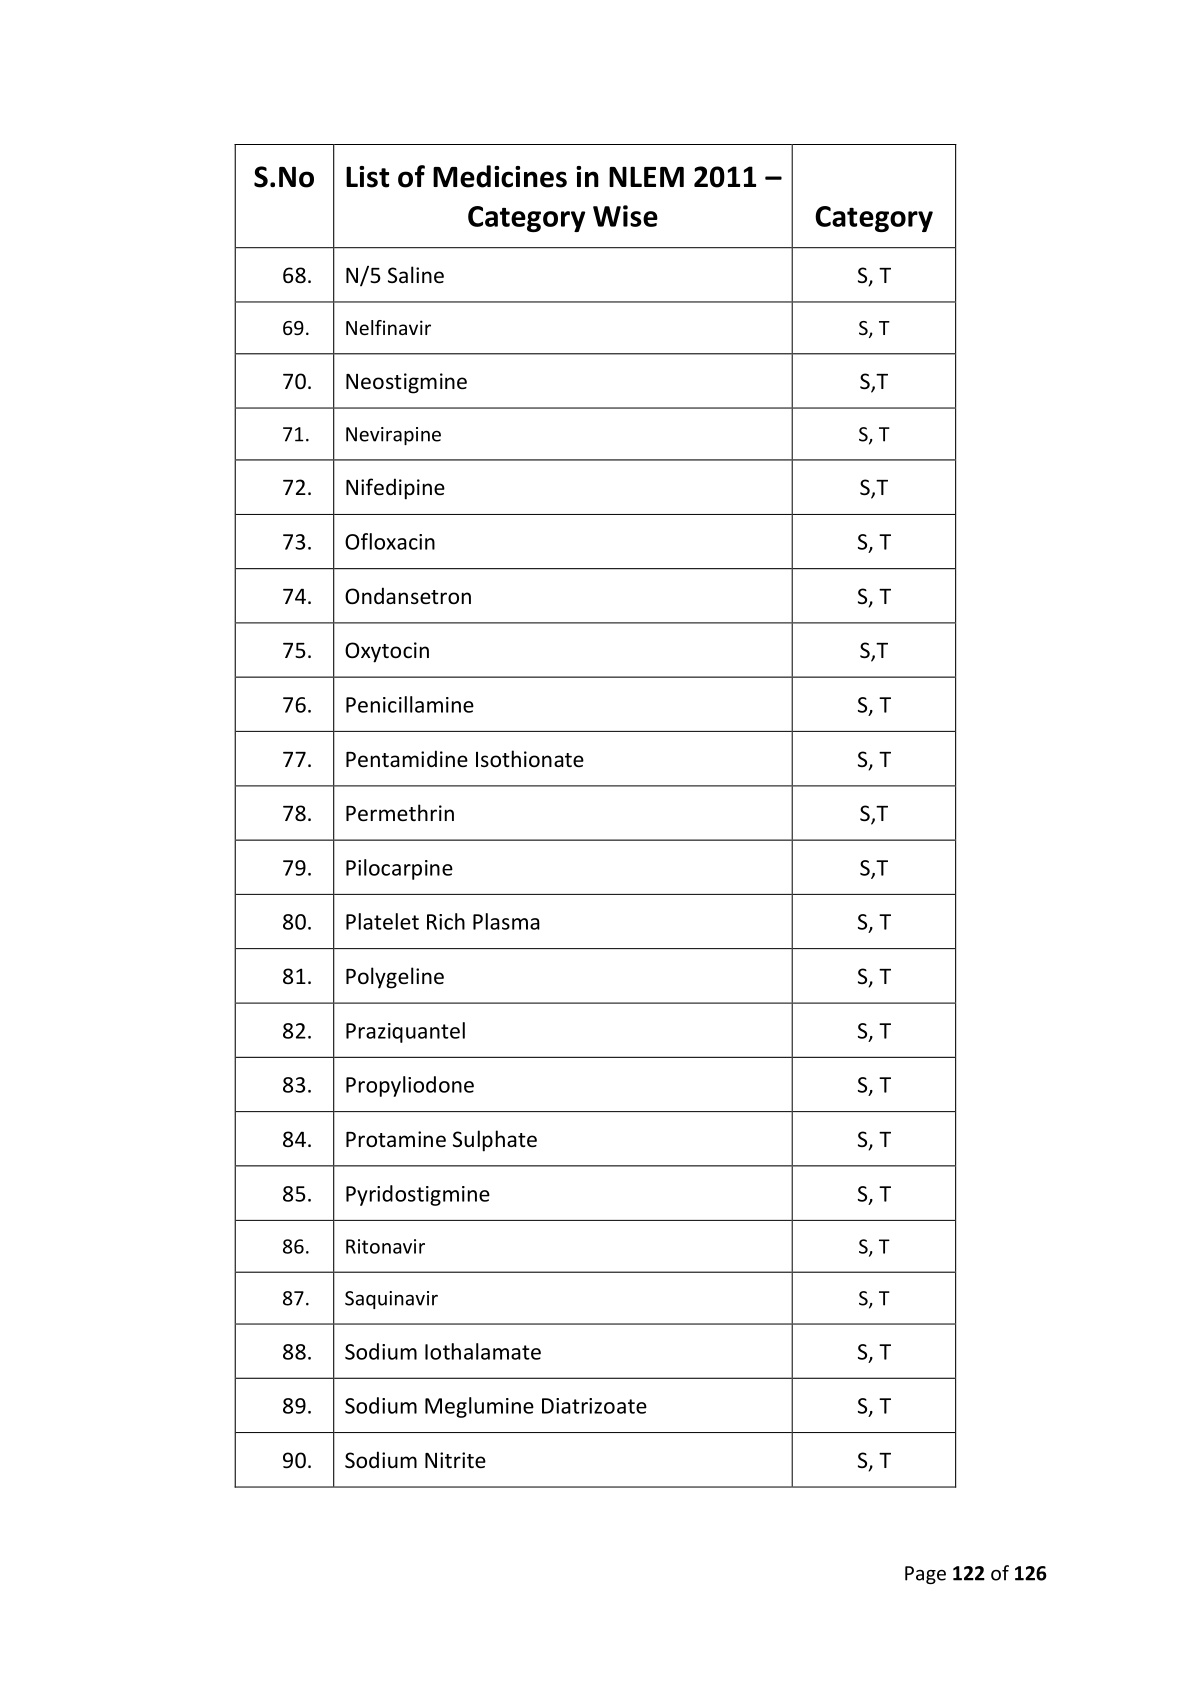full_lined: (226, 129, 969, 1496)
